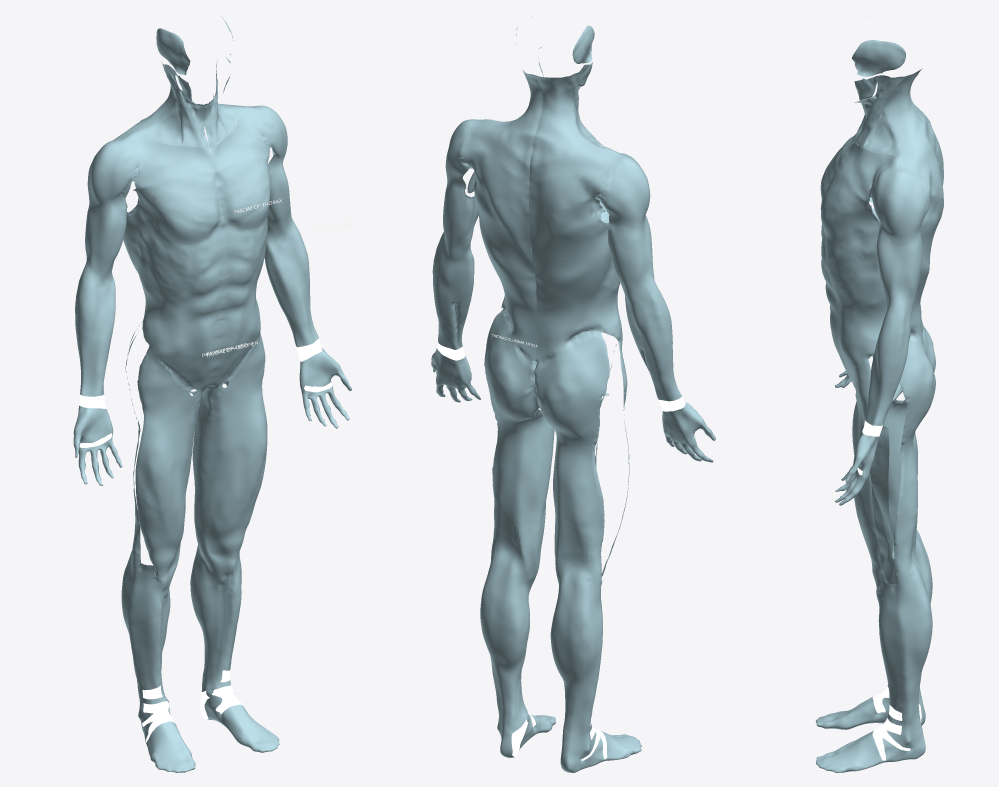
The model's file is fasciate.gltf.
3 renders of one model, left to right at view 1: azimuth 30°, elevation 25°; view 2: azimuth 150°, elevation 25°; view 3: azimuth 270°, elevation 25°, orthographic. The views are drawn at different scales.
Parts seen in each view (by area): view 1: Investing_abdominal_fasciar, Fascia_latal, Fascia_latar, Crural_fascial, Crural_fasciar, Pectoral_fasciar, Investing_abdominal_fascial, Pectoral_fascial, Antebrachial_fasciar, Antebrachial_fascial, Superficial_investing_cervical_fasciar, Deltoid_fasciar (+7 smaller); view 2: Investing_abdominal_fasciar, Fascia_latar, Fascia_latal, Crural_fasciar, Investing_abdominal_fascial, Crural_fascial, Superficial_investing_cervical_fasciar, Antebrachial_fasciar, Antebrachial_fascial, Deltoid_fasciar, Superficial_investing_cervical_fascial, Brachial_fasciar (+7 smaller); view 3: Investing_abdominal_fascial, Crural_fascial, Fascia_latal, Superficial_investing_cervical_fascial, Deltoid_fascial, Pectoral_fascial, Antebrachial_fascial, Fascia_latar, Brachial_fascial, Crural_fasciar, Superficial_layer_of_temporal_fascial, Medial_femoral_intermuscular_septuml (+3 smaller).
Boxes of the visible parts, x1=… form: Investing_abdominal_fasciar: x1=123, y1=197, x2=224, y2=390; Fascia_latal: x1=189, y1=332, x2=267, y2=550; Fascia_latar: x1=125, y1=322, x2=207, y2=568; Crural_fascial: x1=190, y1=536, x2=279, y2=752; Crural_fasciar: x1=121, y1=550, x2=195, y2=772; Pectoral_fasciar: x1=130, y1=143, x2=222, y2=246; Investing_abdominal_fascial: x1=209, y1=218, x2=267, y2=386; Pectoral_fascial: x1=209, y1=125, x2=271, y2=228; Antebrachial_fasciar: x1=75, y1=264, x2=115, y2=396; Antebrachial_fascial: x1=264, y1=218, x2=318, y2=347; Superficial_investing_cervical_fasciar: x1=112, y1=61, x2=208, y2=148; Deltoid_fasciar: x1=87, y1=135, x2=161, y2=213; Investing_abdominal_fasciar: x1=529, y1=170, x2=622, y2=363; Fascia_latar: x1=534, y1=331, x2=629, y2=585; Fascia_latal: x1=484, y1=308, x2=554, y2=567; Crural_fasciar: x1=550, y1=575, x2=641, y2=772; Investing_abdominal_fascial: x1=469, y1=144, x2=536, y2=362; Crural_fascial: x1=480, y1=562, x2=555, y2=757; Superficial_investing_cervical_fasciar: x1=530, y1=64, x2=619, y2=179; Antebrachial_fasciar: x1=624, y1=279, x2=681, y2=401; Antebrachial_fascial: x1=432, y1=232, x2=474, y2=349; Deltoid_fasciar: x1=576, y1=141, x2=650, y2=229; Superficial_investing_cervical_fascial: x1=468, y1=69, x2=542, y2=171; Brachial_fasciar: x1=606, y1=210, x2=654, y2=294; Investing_abdominal_fascial: x1=821, y1=163, x2=943, y2=385; Crural_fascial: x1=816, y1=568, x2=932, y2=772; Fascia_latal: x1=853, y1=334, x2=935, y2=584; Superficial_investing_cervical_fascial: x1=854, y1=68, x2=938, y2=172; Deltoid_fascial: x1=871, y1=153, x2=933, y2=245; Pectoral_fascial: x1=820, y1=143, x2=875, y2=243; Antebrachial_fascial: x1=865, y1=298, x2=913, y2=425; Fascia_latar: x1=852, y1=324, x2=935, y2=549; Brachial_fascial: x1=876, y1=221, x2=922, y2=306; Crural_fasciar: x1=815, y1=535, x2=932, y2=729; Superficial_layer_of_temporal_fascial: x1=852, y1=40, x2=905, y2=76; Medial_femoral_intermuscular_septuml: x1=870, y1=426, x2=892, y2=546.
Bounding box in the file's own units: 0.8232 × 1.66 × 0.4763.
